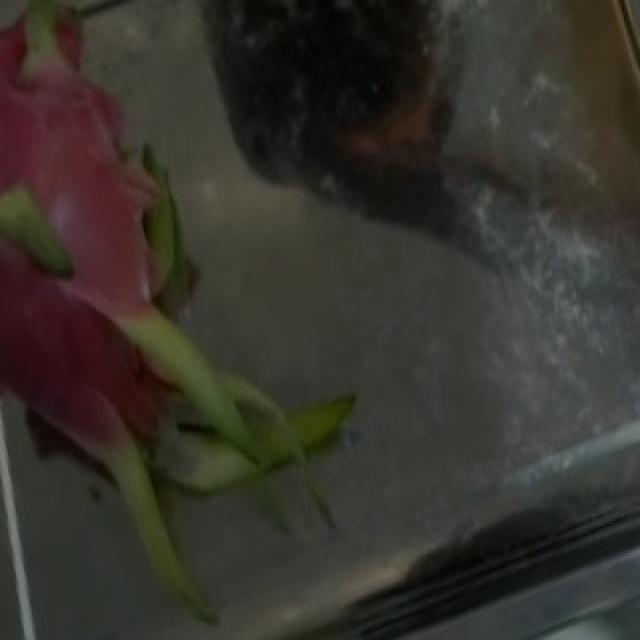fruit: (0, 245, 374, 640), (0, 10, 314, 471)
